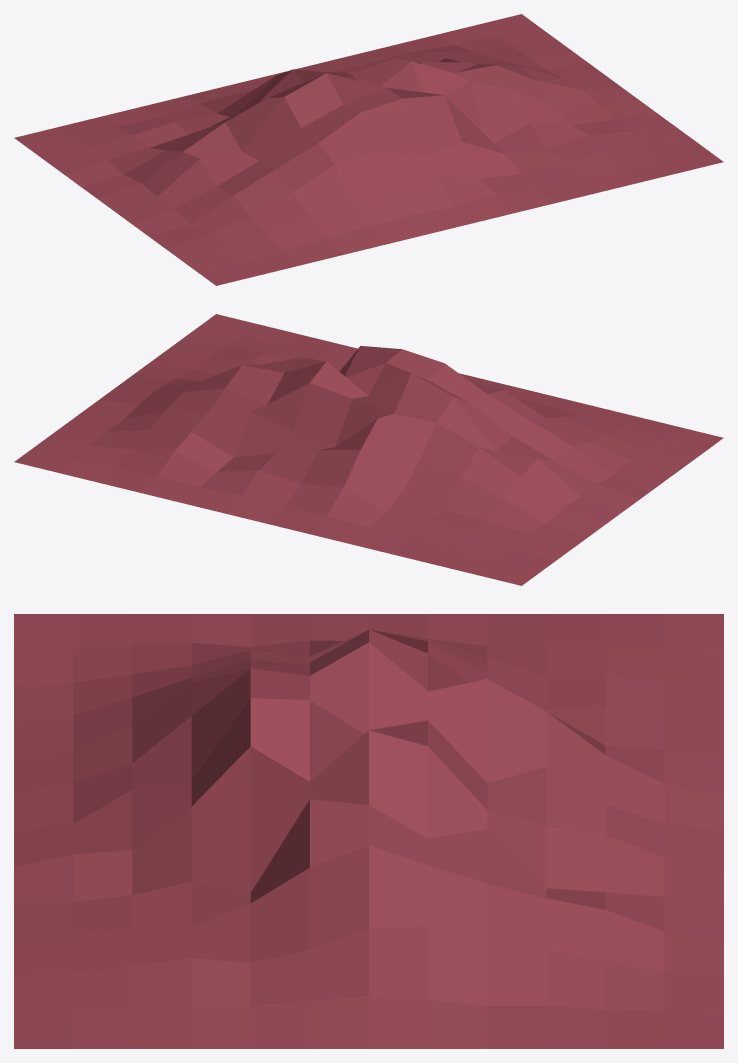
The model's file is GraveAsset.fbx.
3 renders of one model, top to bottom at view 1: azimuth 30°, elevation 25°; view 2: azimuth 150°, elevation 25°; view 3: azimuth 270°, elevation 25°, orthographic. The views are drawn at different scales.
Visible parts, largest first — view 1: Grave; view 2: Grave; view 3: Grave.
Boxes of the visible parts, x1,y1,x2,y2 form: Grave: (14,14,723,285); Grave: (14,314,723,585); Grave: (14,614,723,1048).
Size of the model in its own units: 655 by 108 by 452.
